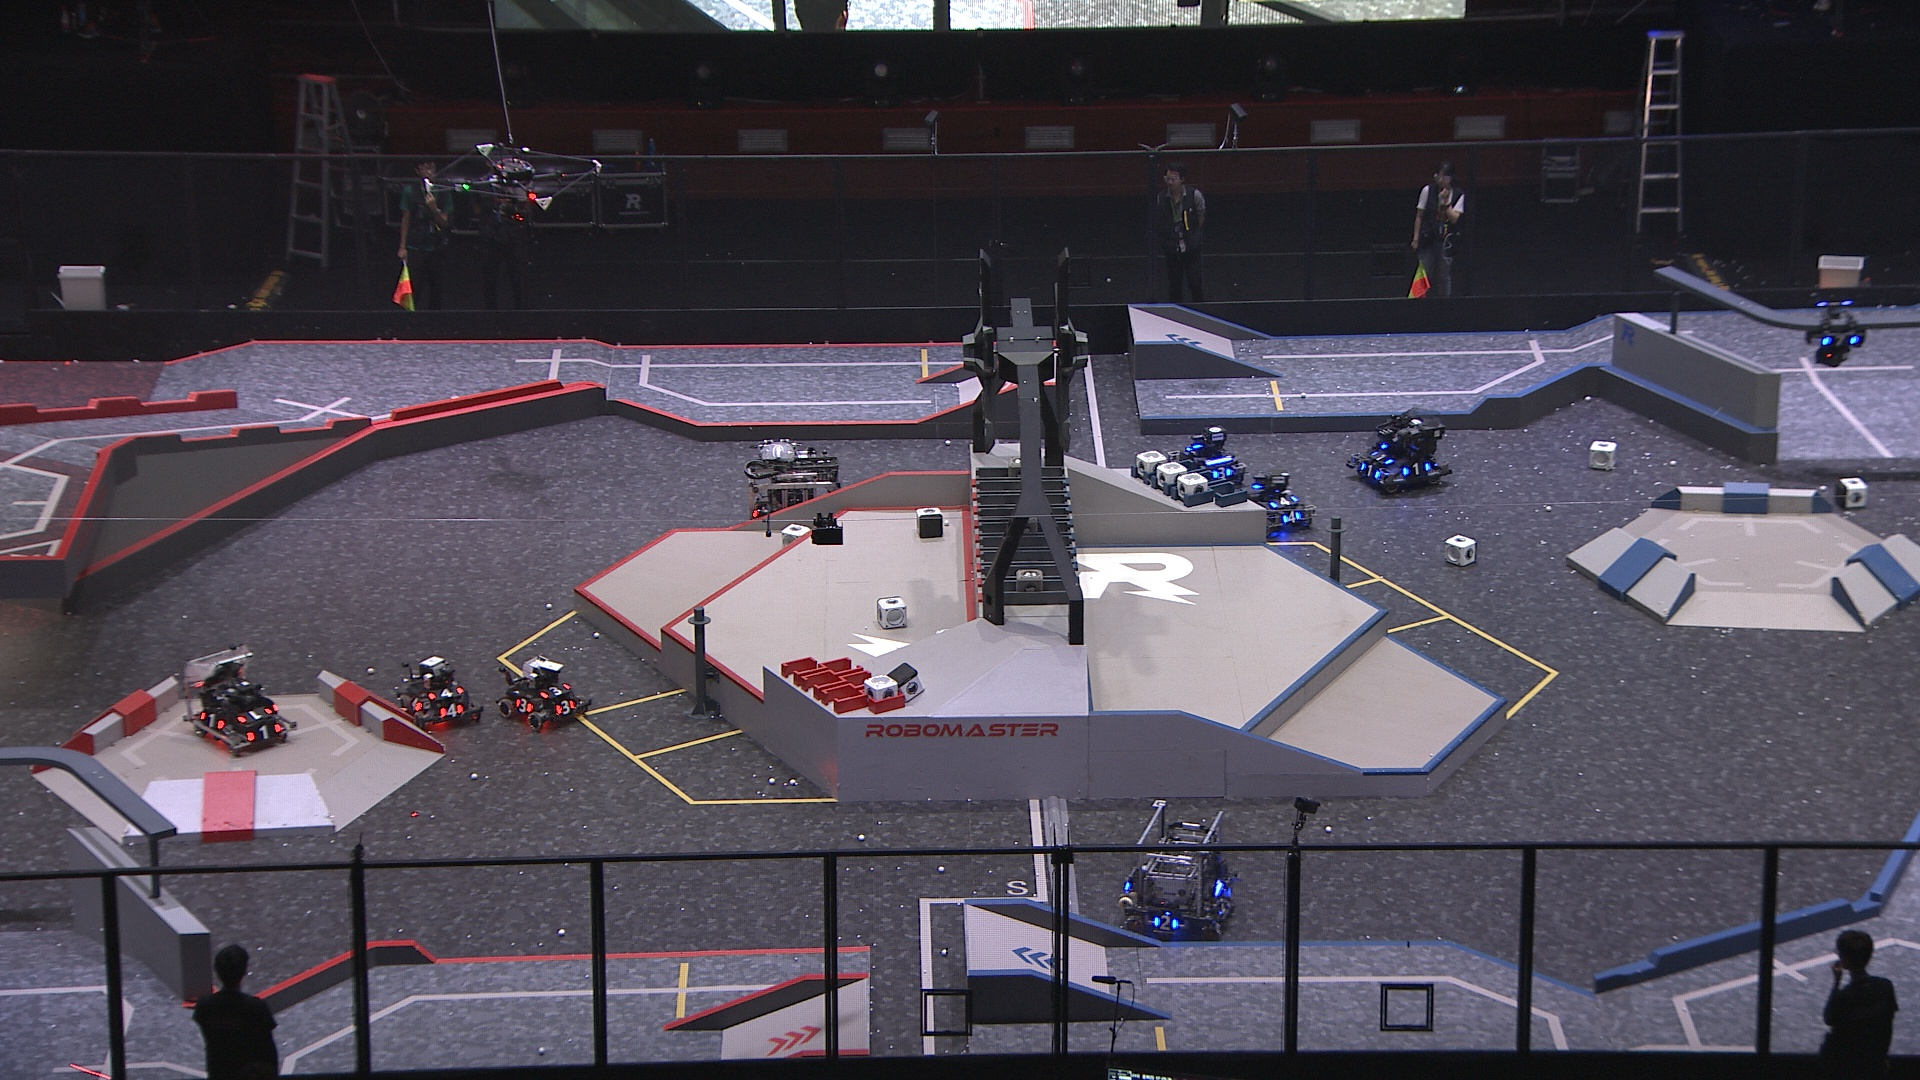armor: (1818, 334, 1865, 351), (247, 723, 282, 742), (233, 708, 273, 725), (425, 684, 463, 702), (1150, 913, 1182, 932), (196, 711, 225, 731), (1400, 462, 1433, 477), (538, 683, 570, 699), (1356, 462, 1381, 479), (1278, 510, 1304, 526), (438, 702, 462, 719), (513, 698, 534, 716), (553, 699, 575, 716), (1370, 450, 1394, 465), (1211, 467, 1234, 483), (1269, 496, 1299, 508), (406, 698, 425, 713)
car: (1120, 798, 1240, 944), (178, 647, 301, 760), (746, 438, 843, 549), (1342, 409, 1449, 498), (498, 654, 593, 732), (396, 655, 485, 733), (1244, 469, 1313, 535), (1174, 427, 1247, 488)
watcher: (1803, 297, 1866, 371)
